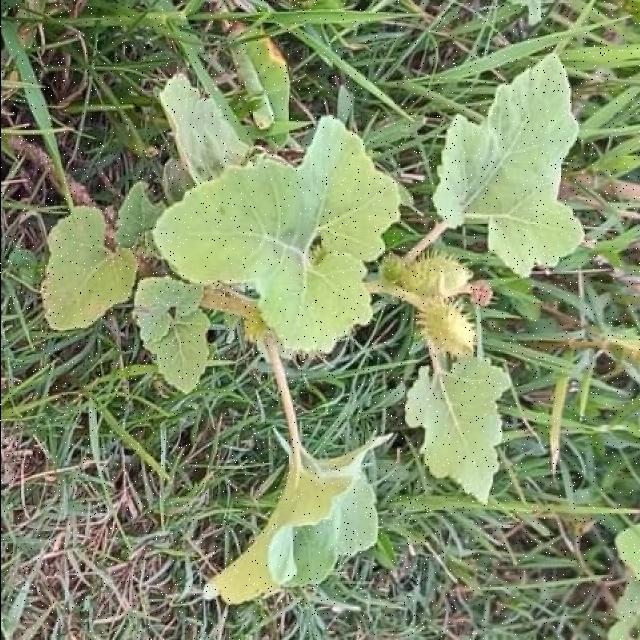weed: (39, 53, 581, 604)
